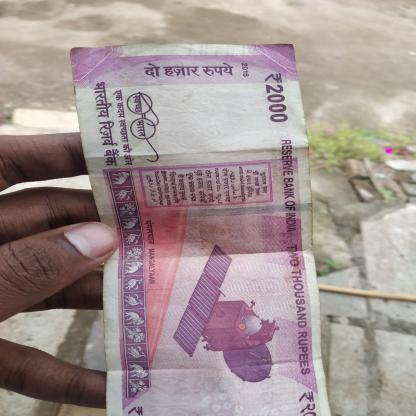New2000Back: (90, 46, 292, 416)
